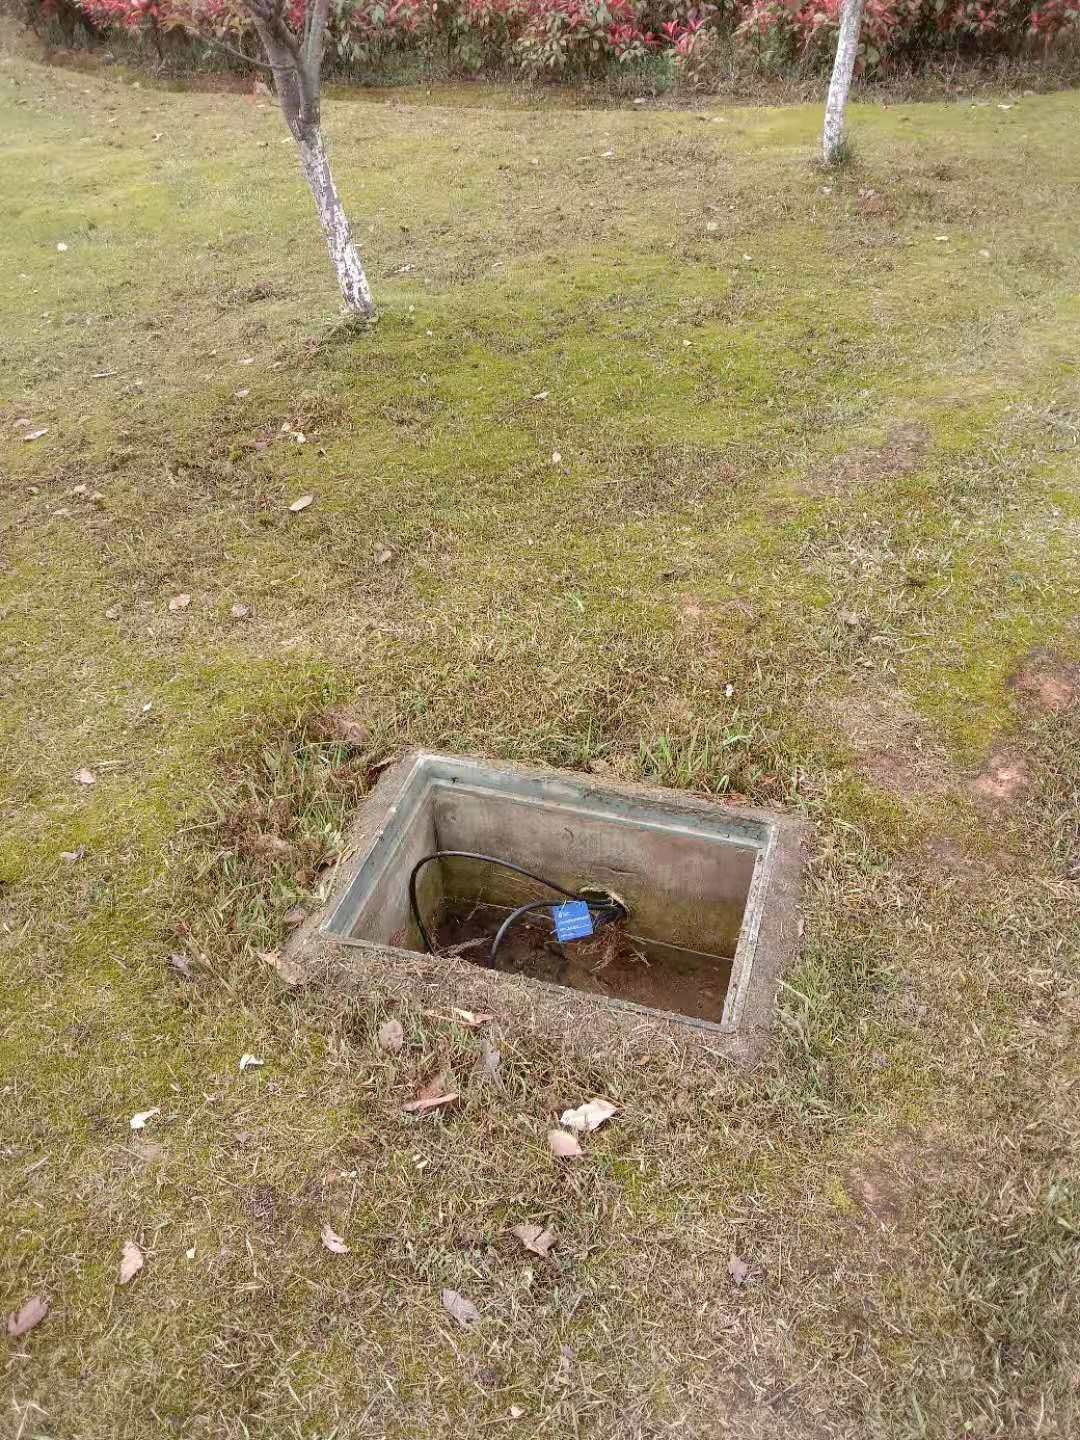lose: (320, 745, 799, 1049)
